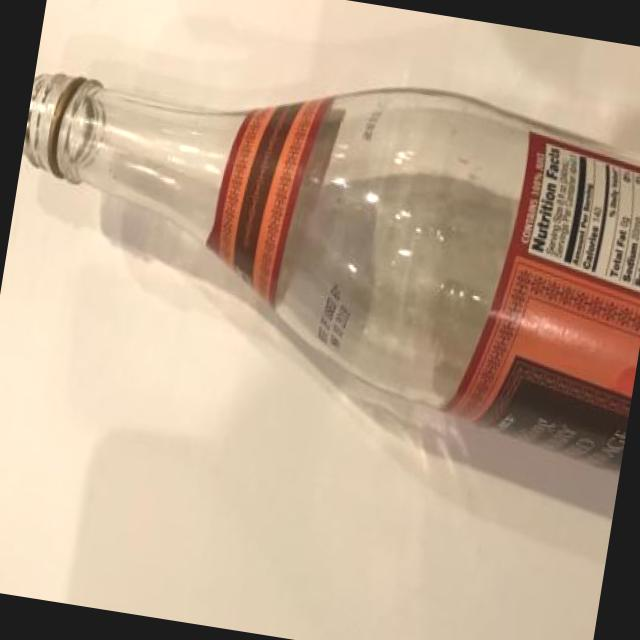chai_thuy_tinh: (271, 91, 530, 409), (23, 73, 245, 231)
giay: (442, 132, 640, 475)
